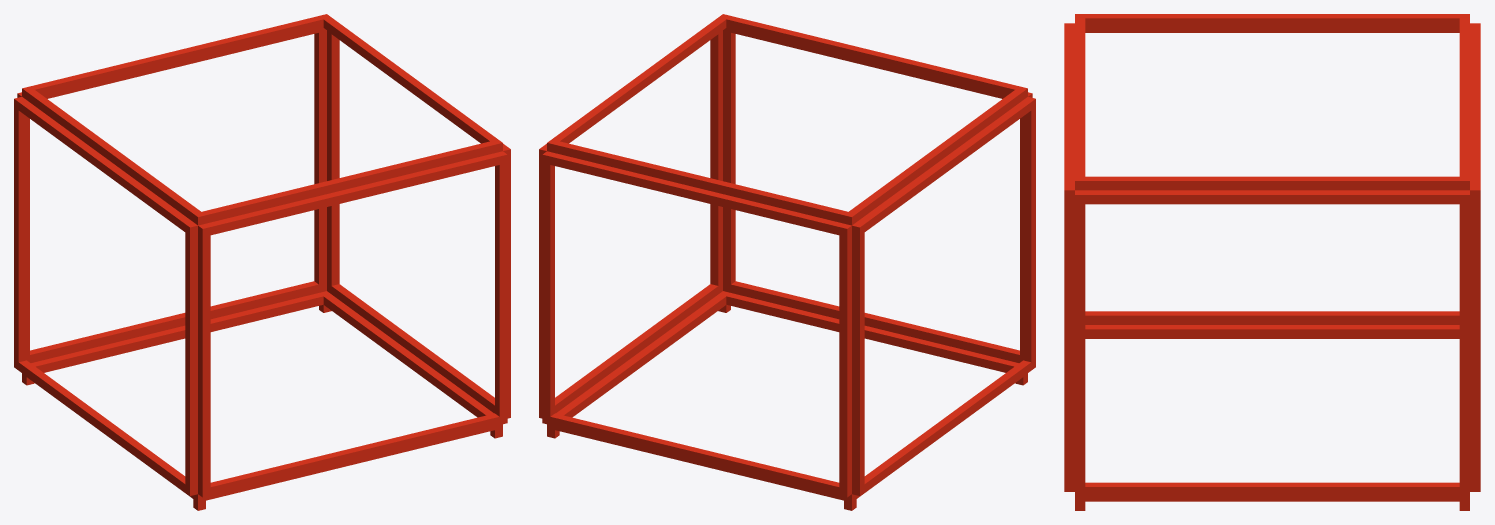
Rendered from Cursor.obj.
The picture shows the model from 3 angles, left to right: view 1: azimuth 30°, elevation 25°; view 2: azimuth 150°, elevation 25°; view 3: azimuth 270°, elevation 25°; orthographic projection. The views are drawn at different scales.
Bounding box in the file's own units: 40 × 35 × 40.
1 material, 1 textured.
